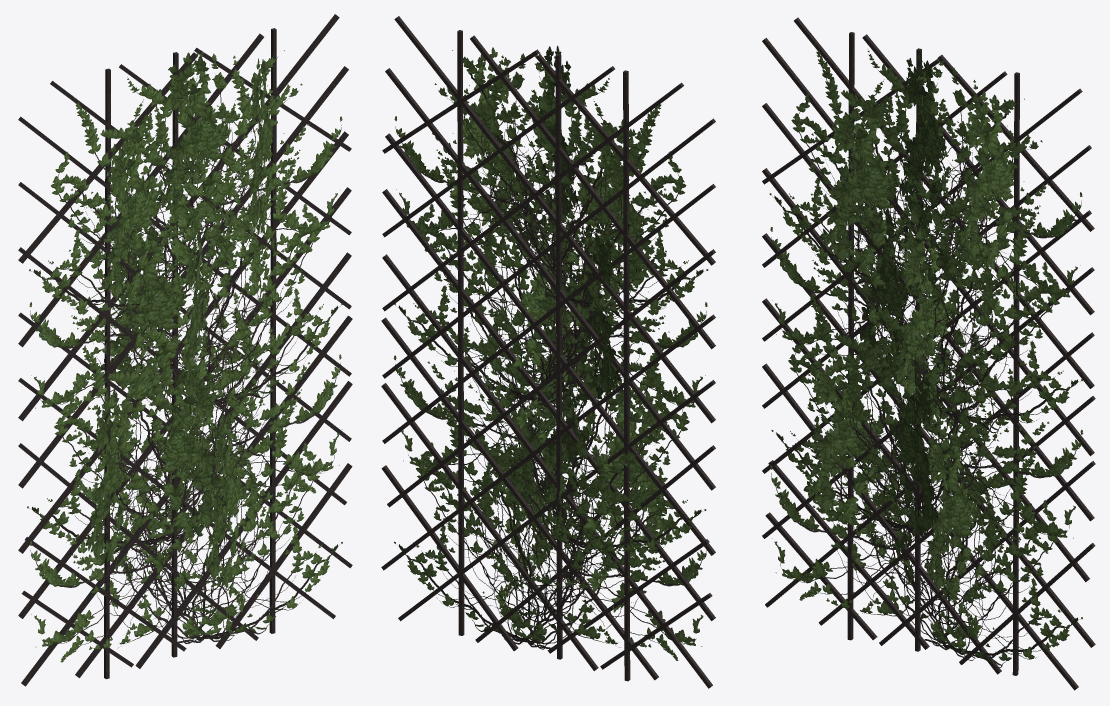
The model's file is Plant_Climber_Long.FBX.
The picture shows the model from 3 angles, left to right: view 1: azimuth 30°, elevation 25°; view 2: azimuth 150°, elevation 25°; view 3: azimuth 330°, elevation 25°; orthographic projection.
Visible parts, largest first — view 1: Plant_Climber_Long; view 2: Plant_Climber_Long; view 3: Plant_Climber_Long.
Part boxes in pixels (x1,y1,x2,y2): Plant_Climber_Long: (18, 14, 352, 686); Plant_Climber_Long: (381, 16, 715, 688); Plant_Climber_Long: (762, 17, 1095, 690).
Size of the model in its own units: 260 by 457 by 33.82.
